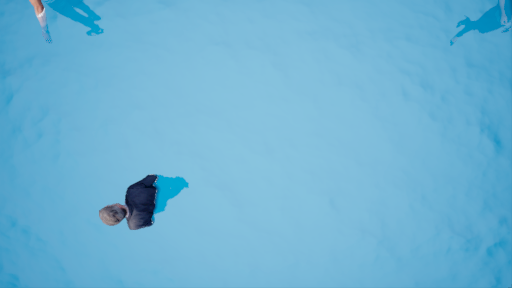person: (85, 174, 204, 238)
